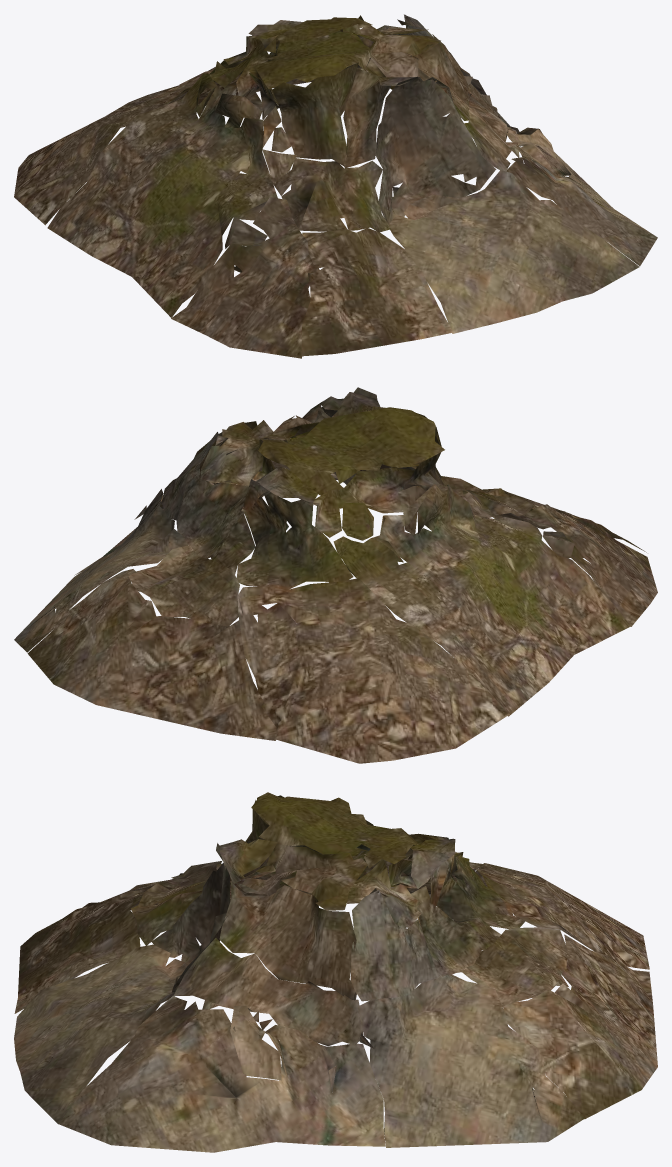
Rendered from tree_stump_01.glb.
3 renders of one model, top to bottom at view 1: azimuth 30°, elevation 25°; view 2: azimuth 150°, elevation 25°; view 3: azimuth 270°, elevation 25°, orthographic. The views are drawn at different scales.
Visible parts, largest first — view 1: tree_stump_01; view 2: tree_stump_01; view 3: tree_stump_01.
Boxes of the visible parts, x1,y1,x2,y2 form: tree_stump_01: (14, 14, 657, 358); tree_stump_01: (14, 387, 657, 763); tree_stump_01: (14, 792, 657, 1152).
Bounding box in the file's own units: 1.43 × 0.5765 × 1.59.
Materials: 1 (1 with a texture image).
